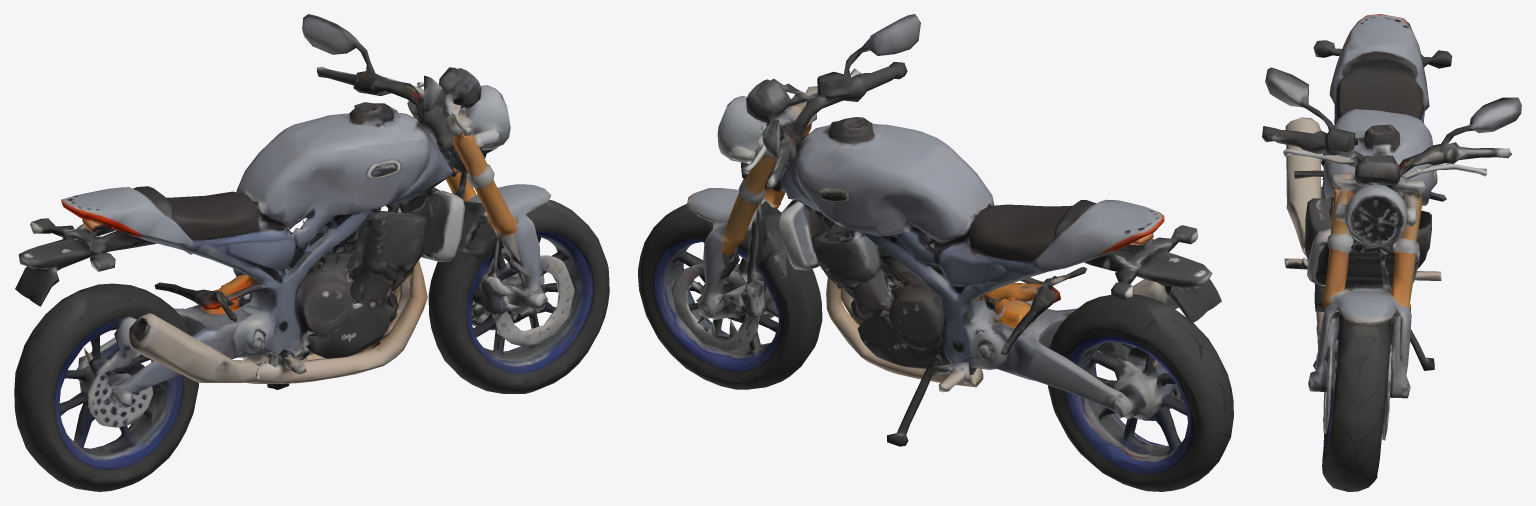
File: au_veh_moto_obsidian.glb
3 renders of one model, left to right at view 1: azimuth 30°, elevation 25°; view 2: azimuth 150°, elevation 25°; view 3: azimuth 270°, elevation 25°, orthographic. The views are drawn at different scales.
Parts seen in each view (by area): view 1: tripo_node_189e4083-9910-4793-a1c3-1c2803eb810e; view 2: tripo_node_189e4083-9910-4793-a1c3-1c2803eb810e; view 3: tripo_node_189e4083-9910-4793-a1c3-1c2803eb810e.
Boxes of the visible parts, bbox=[...] form: tripo_node_189e4083-9910-4793-a1c3-1c2803eb810e: bbox=[14, 14, 609, 491]; tripo_node_189e4083-9910-4793-a1c3-1c2803eb810e: bbox=[638, 14, 1233, 491]; tripo_node_189e4083-9910-4793-a1c3-1c2803eb810e: bbox=[1262, 14, 1521, 491].
Bounding box in the file's own units: 2.15 × 1.3 × 0.8714.
Materials: 1 (1 with a texture image).
